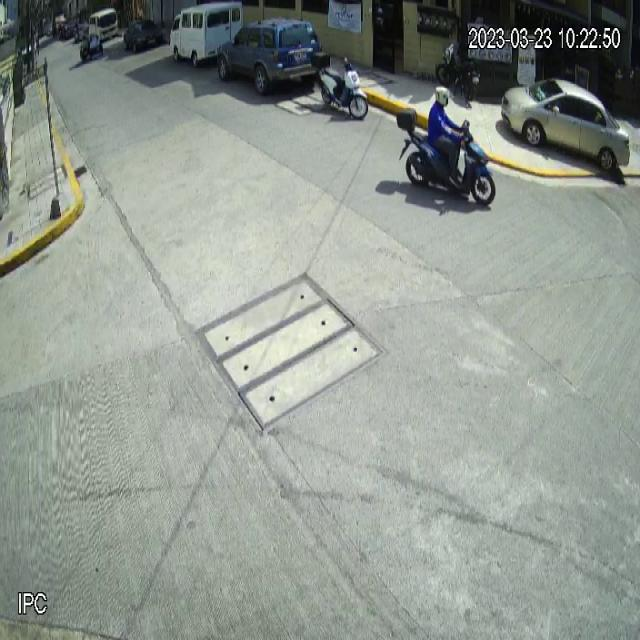Car: (500, 76, 631, 175), (216, 16, 321, 97)
Motorcycle: (392, 109, 498, 208), (310, 49, 370, 121)
Van: (169, 0, 244, 71)
